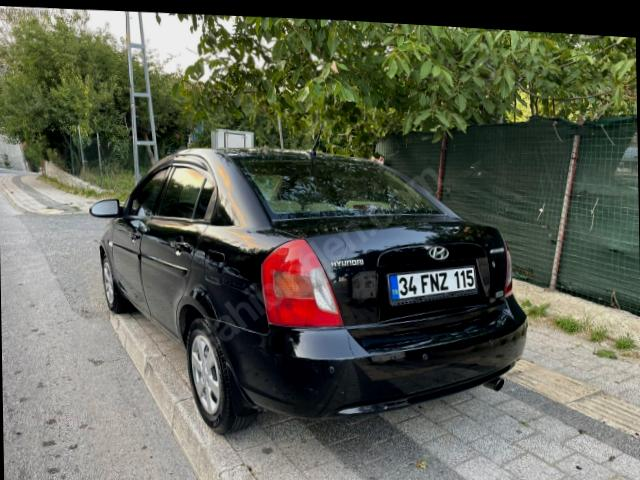plaka: (389, 265, 476, 302)
